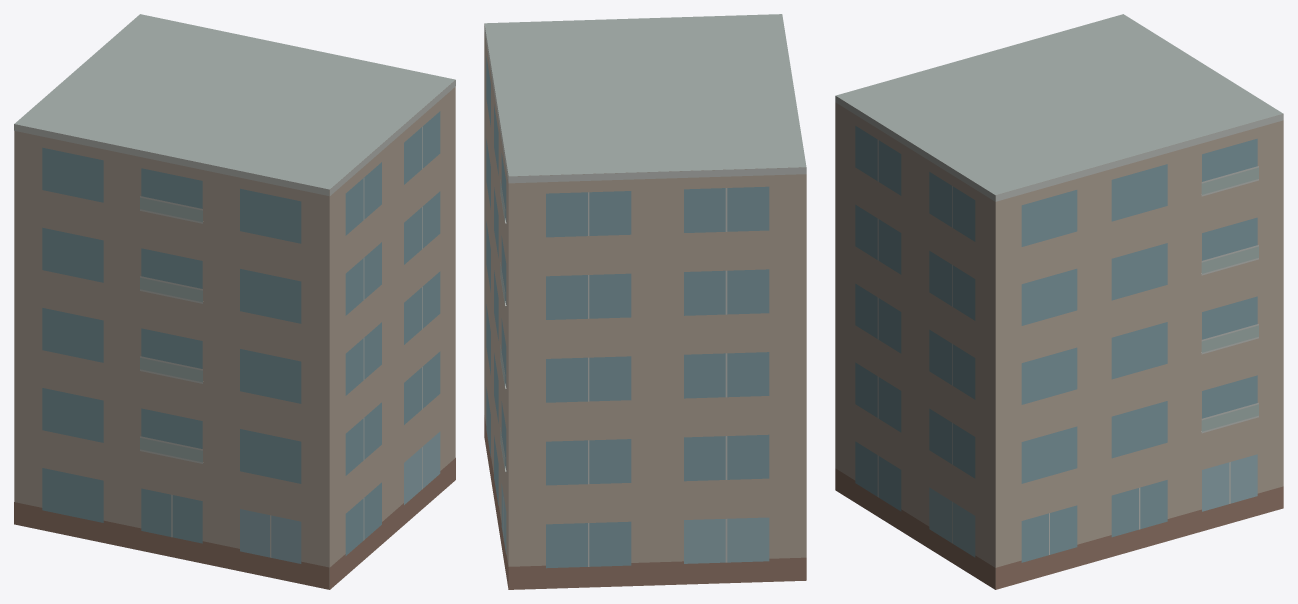
File: survey-upis-32881689.glb
3 renders of one model, left to right at view 1: azimuth 30°, elevation 25°; view 2: azimuth 150°, elevation 25°; view 3: azimuth 270°, elevation 25°, orthographic. The views are drawn at different scales.
Visible parts, largest first — view 1: survey-upis-32881689.tmp; view 2: survey-upis-32881689.tmp; view 3: survey-upis-32881689.tmp.
Boxes of the visible parts, x1=… form: survey-upis-32881689.tmp: x1=14, y1=14, x2=455, y2=589; survey-upis-32881689.tmp: x1=484, y1=14, x2=806, y2=589; survey-upis-32881689.tmp: x1=835, y1=14, x2=1283, y2=589.
Bounding box in the file's own units: 14.29 × 14.5 × 14.93.
